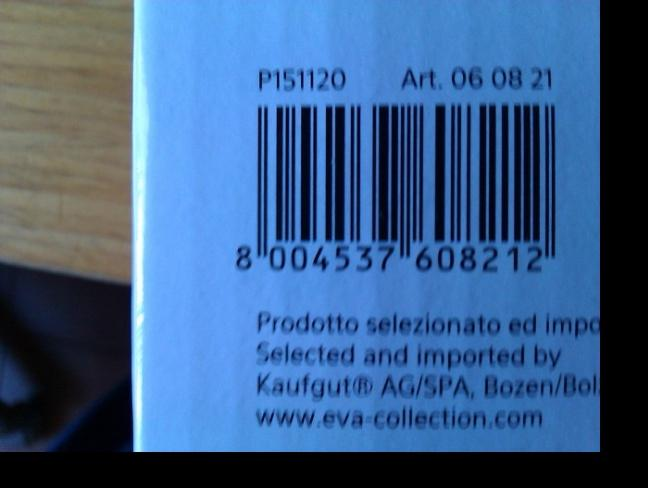Barcode: (222, 94, 576, 284)
